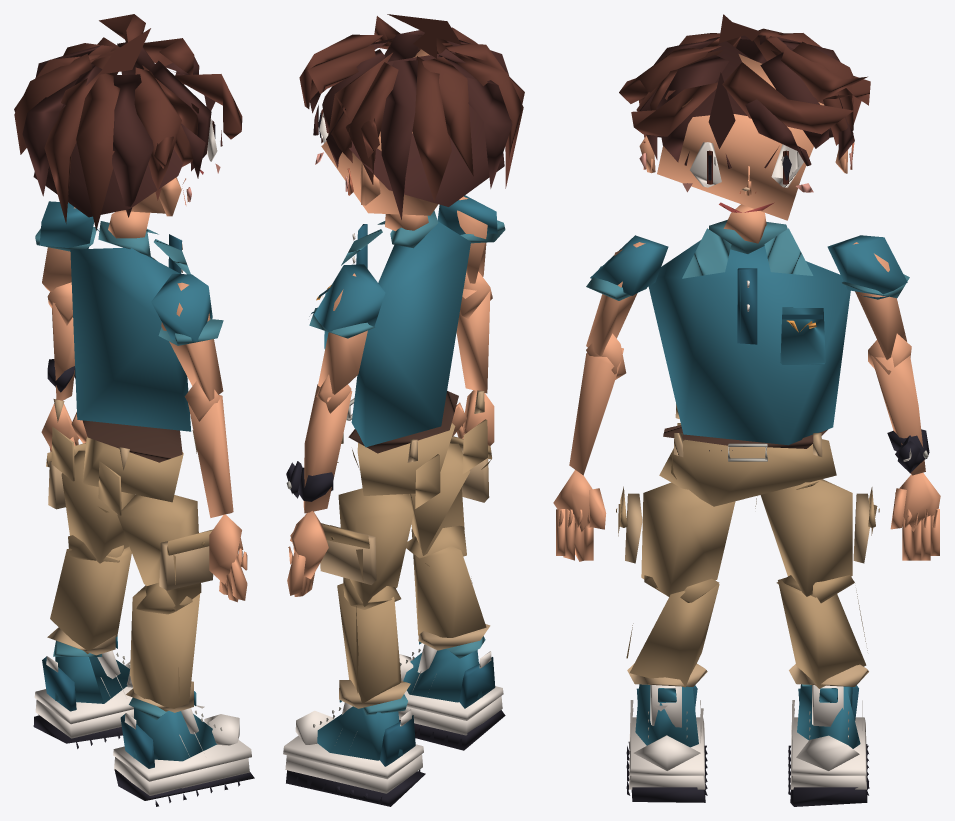
Rendered from npc.civilian-man-a.lod2.glb.
3 renders of one model, left to right at view 1: azimuth 30°, elevation 25°; view 2: azimuth 150°, elevation 25°; view 3: azimuth 270°, elevation 25°, orthographic. The views are drawn at different scales.
Visible parts, largest first — view 1: head, torso, footR, hip, footL, shinR, legR, shinL, armR, legL, foreArmR, armL (+3 smaller); view 2: head, torso, footL, footR, legL, hip, shinR, shinL, armL, foreArmL, legR, foreArmR (+3 smaller); view 3: torso, head, hip, legR, footL, legL, footR, shinL, shinR, armL, armR, foreArmL (+3 smaller).
Boxes of the visible parts, <box> form: head: <box>14,14,242,238</box>; torso: <box>70,221,191,431</box>; footR: <box>113,691,254,806</box>; hip: <box>51,399,197,515</box>; footL: <box>33,635,133,748</box>; shinR: <box>126,582,200,712</box>; legR: <box>117,495,213,611</box>; shinL: <box>47,535,131,655</box>; armR: <box>151,273,223,401</box>; legL: <box>46,443,134,563</box>; foreArmR: <box>184,380,233,517</box>; armL: <box>35,201,99,291</box>; head: <box>299,14,524,231</box>; torso: <box>316,210,470,447</box>; footL: <box>283,694,425,806</box>; footR: <box>398,636,505,750</box>; legL: <box>320,488,413,606</box>; hip: <box>337,390,490,508</box>; shinR: <box>406,525,490,650</box>; shinL: <box>337,577,410,708</box>; armL: <box>309,264,385,394</box>; foreArmL: <box>286,374,352,513</box>; legR: <box>409,436,491,555</box>; foreArmR: <box>456,271,492,393</box>; torso: <box>648,220,850,445</box>; head: <box>619,14,870,243</box>; hip: <box>659,404,836,508</box>; legR: <box>616,482,735,596</box>; footL: <box>788,684,869,806</box>; legL: <box>760,479,879,596</box>; footR: <box>626,684,707,802</box>; shinL: <box>776,575,868,688</box>; shinR: <box>626,575,719,687</box>; armL: <box>827,235,909,359</box>; armR: <box>586,235,668,356</box>; foreArmL: <box>868,333,929,475</box>.
Size of the model in its own units: 0.4627 by 1.78 by 0.8321.
